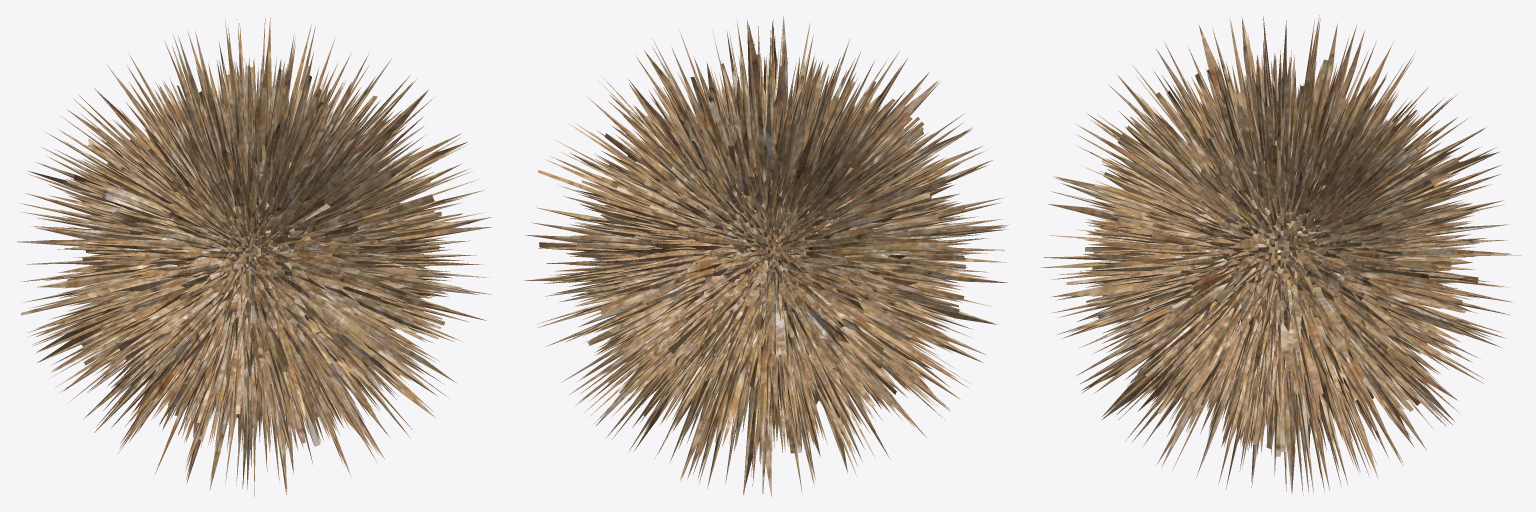
The model's file is smeteor.fbx.
The picture shows the model from 3 angles, left to right: view 1: azimuth 30°, elevation 25°; view 2: azimuth 150°, elevation 25°; view 3: azimuth 270°, elevation 25°; orthographic projection.
Visible parts, largest first — view 1: Cube; view 2: Cube; view 3: Cube.
Part boxes in pixels (left/top/right/bottom): Cube: left=17, top=17, right=492, bottom=496; Cube: left=524, top=15, right=1009, bottom=496; Cube: left=1040, top=15, right=1521, bottom=495.
Size of the model in its own units: 227 by 228 by 228.
